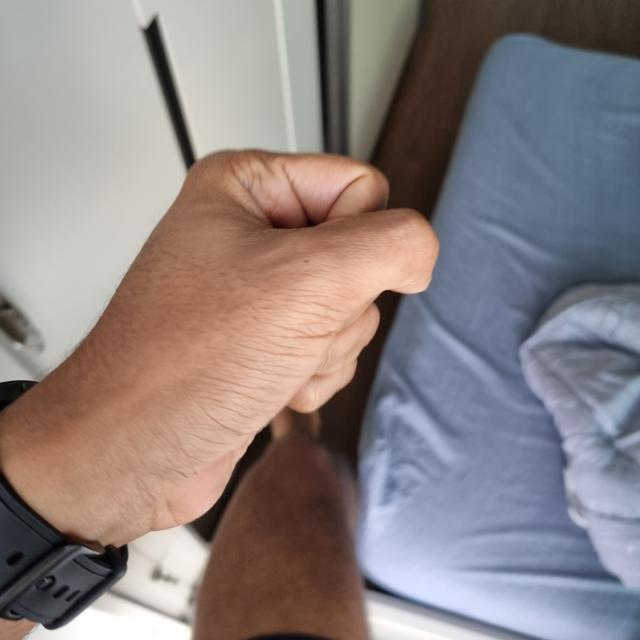Rock: (63, 148, 639, 594)
